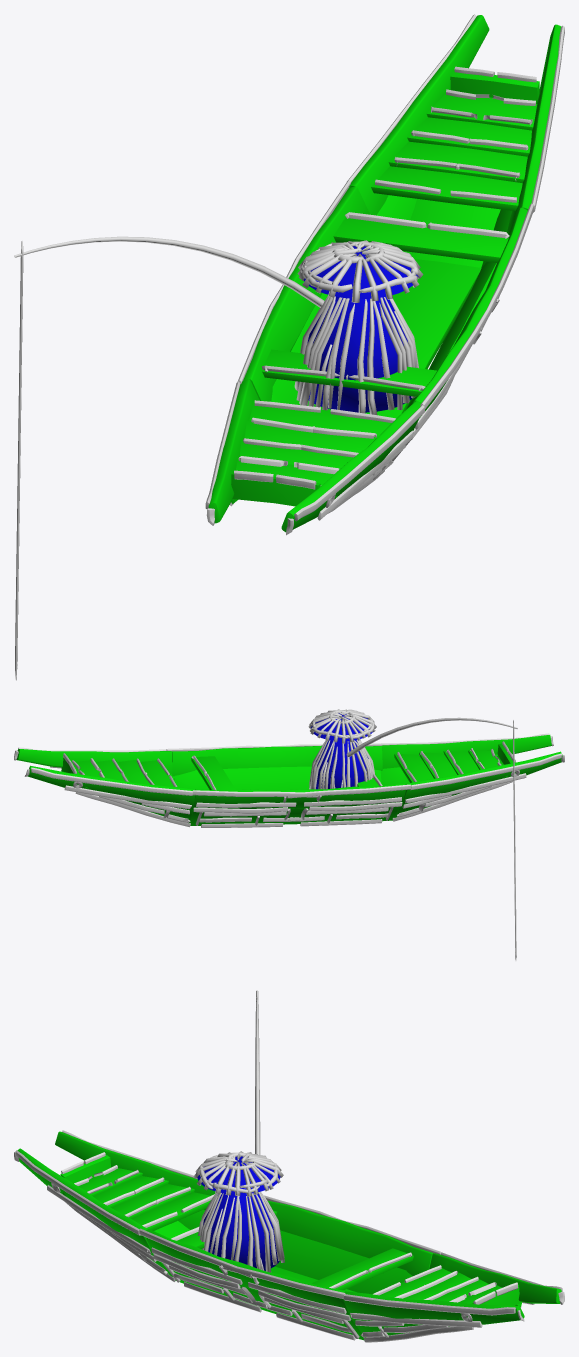
File: boat1.fbx
3 views of the same model, one above another, from view 1: azimuth 30°, elevation 25°; view 2: azimuth 150°, elevation 25°; view 3: azimuth 270°, elevation 25° (orthographic). The views are drawn at different scales.
Parts seen in each view (by area): view 1: boat, Cylinder.001; view 2: boat, Cylinder.001; view 3: boat, Cylinder.001.
Part boxes in pixels (x1,y1,x2,y2): boat: (205, 14, 564, 535); Cylinder.001: (14, 236, 423, 680); boat: (14, 733, 564, 827); Cylinder.001: (308, 709, 517, 960); boat: (14, 1130, 564, 1342); Cylinder.001: (193, 990, 284, 1272).
Bounding box in the file's own units: 838 × 480 × 767.
